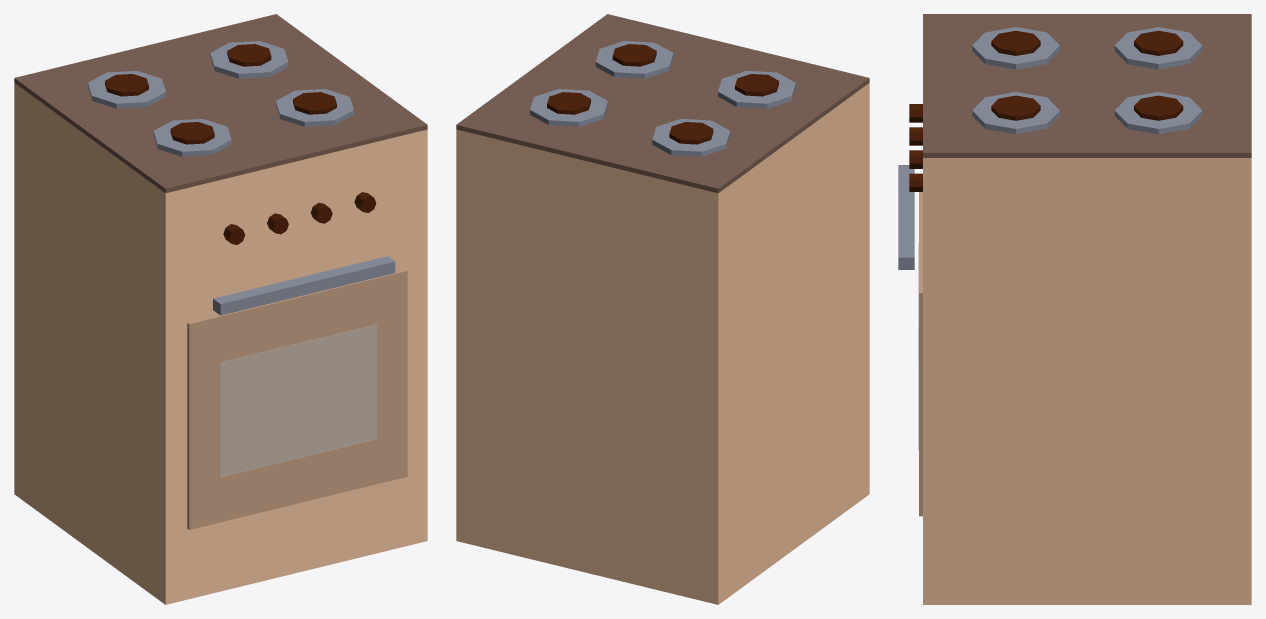
File: Stove.fbx
3 renders of one model, left to right at view 1: azimuth 30°, elevation 25°; view 2: azimuth 150°, elevation 25°; view 3: azimuth 270°, elevation 25°, orthographic. The views are drawn at different scales.
Parts seen in each view (by area): view 1: Stove; view 2: Stove; view 3: Stove.
Boxes of the visible parts, x1,y1,x2,y2 form: Stove: (14, 14, 427, 604); Stove: (456, 14, 869, 604); Stove: (898, 14, 1251, 604).
Bounding box in the file's own units: 0.6 × 0.93 × 0.645.
